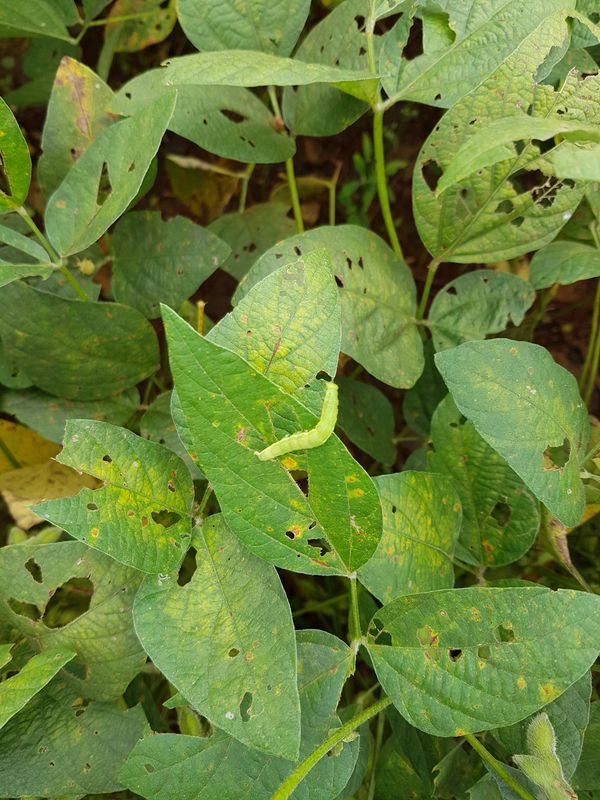Anticarsia_gemmatalis: (247, 373, 352, 472)
